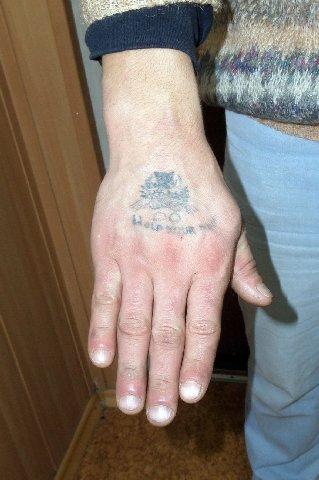tatu3_bukva: (128, 214, 220, 243)
tatu8_kot: (128, 165, 206, 219)
